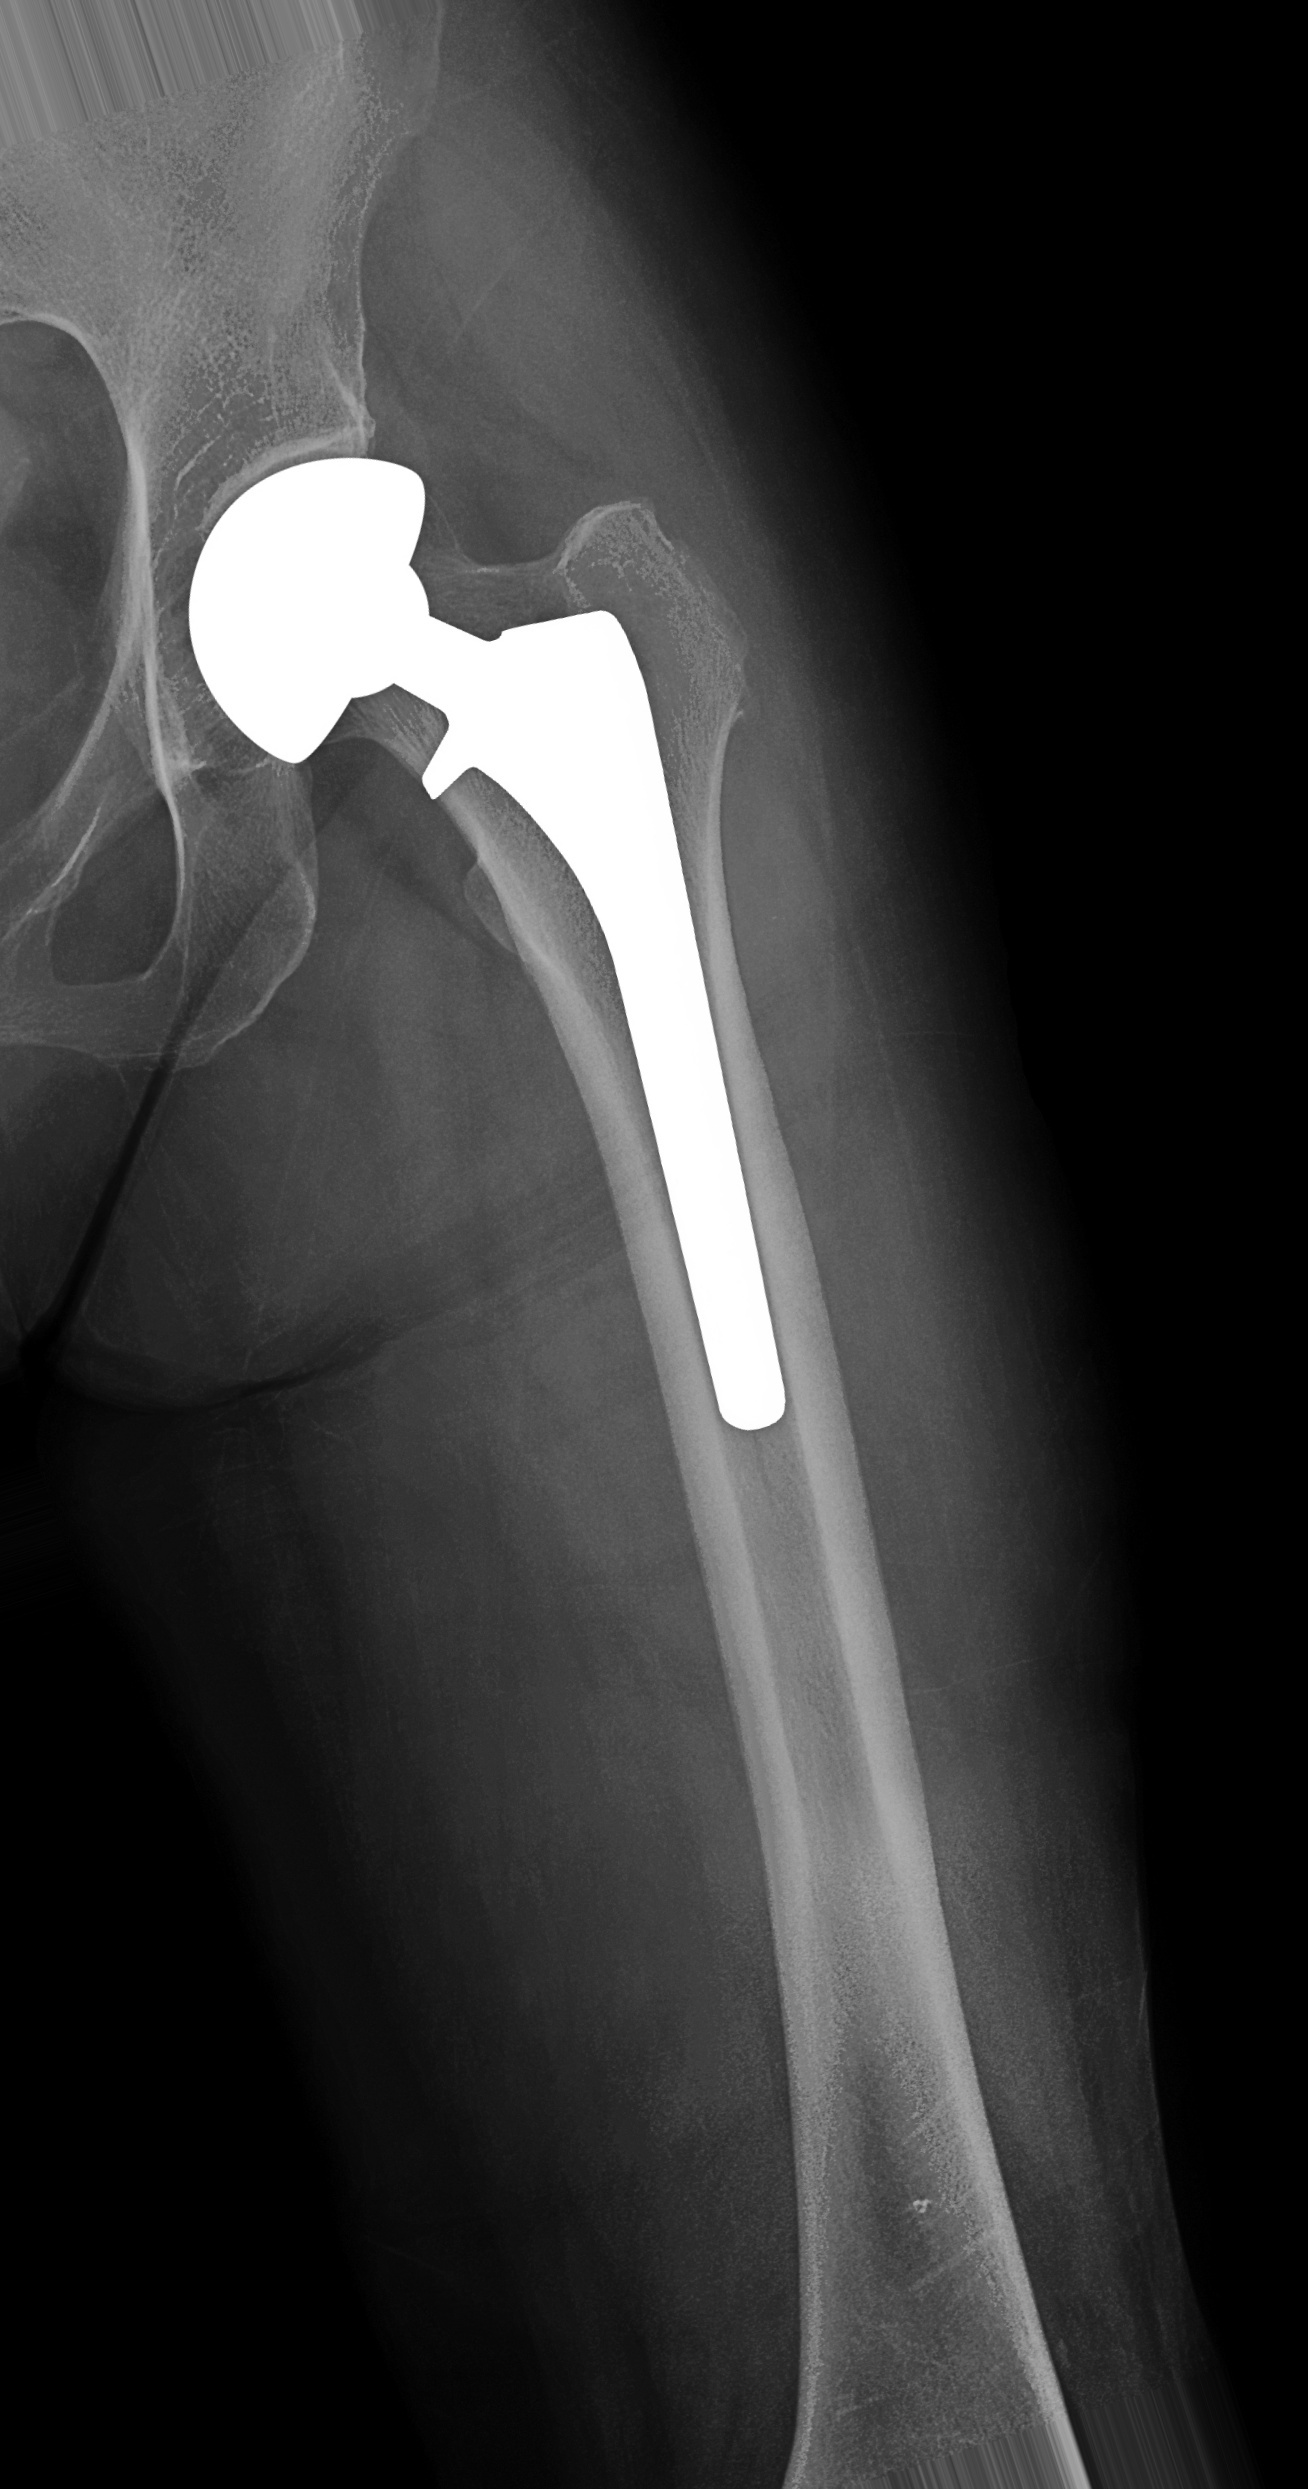Hip - APR - Zimmer: (155, 446, 893, 1598)
